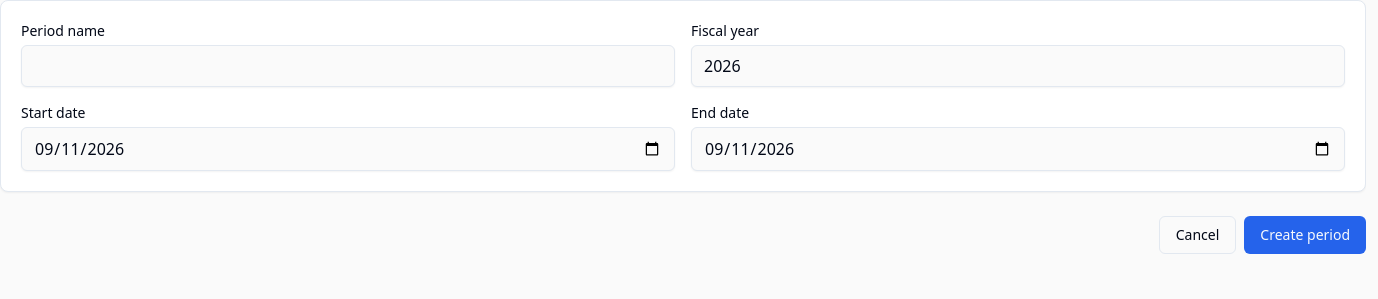
accounting aggregate forms › shows governed posting-period validation when the submit button is clicked empty
Click the button "Create period" at coordinates (1305, 235), box left=1244, top=216, right=1366, bottom=254
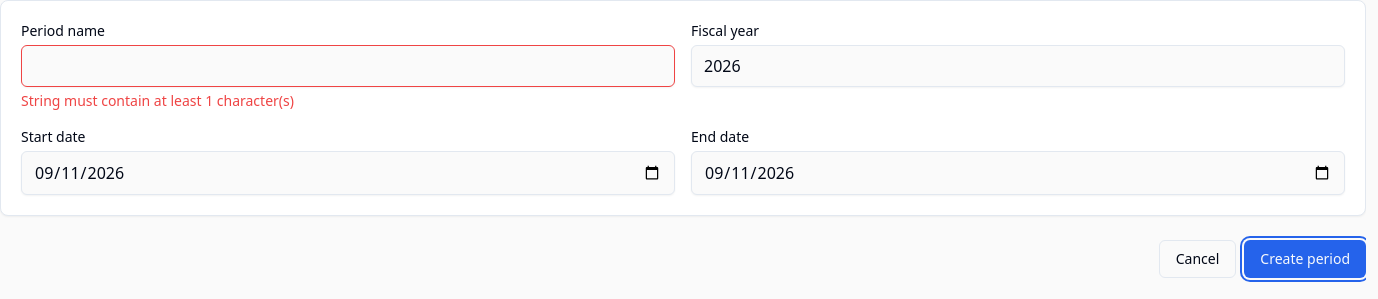
Result: the text "String must contain at least 1 character(s)" is shown at left=21, top=91, right=294, bottom=110
